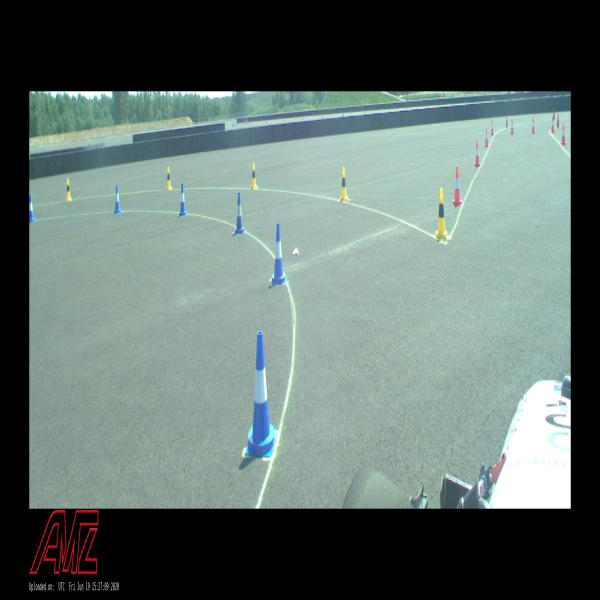blue_cone: (245, 331, 277, 457), (271, 223, 287, 285), (234, 193, 245, 234), (179, 183, 188, 216), (114, 185, 121, 213), (29, 194, 35, 222)
orange_cone: (453, 167, 462, 205), (474, 141, 481, 166), (561, 123, 566, 144), (484, 128, 489, 147), (532, 117, 536, 133), (551, 116, 555, 132), (510, 119, 514, 134), (490, 120, 494, 135)
yellow_cone: (435, 188, 448, 238), (340, 167, 348, 201), (251, 163, 257, 189), (166, 167, 172, 190), (66, 179, 72, 200)
